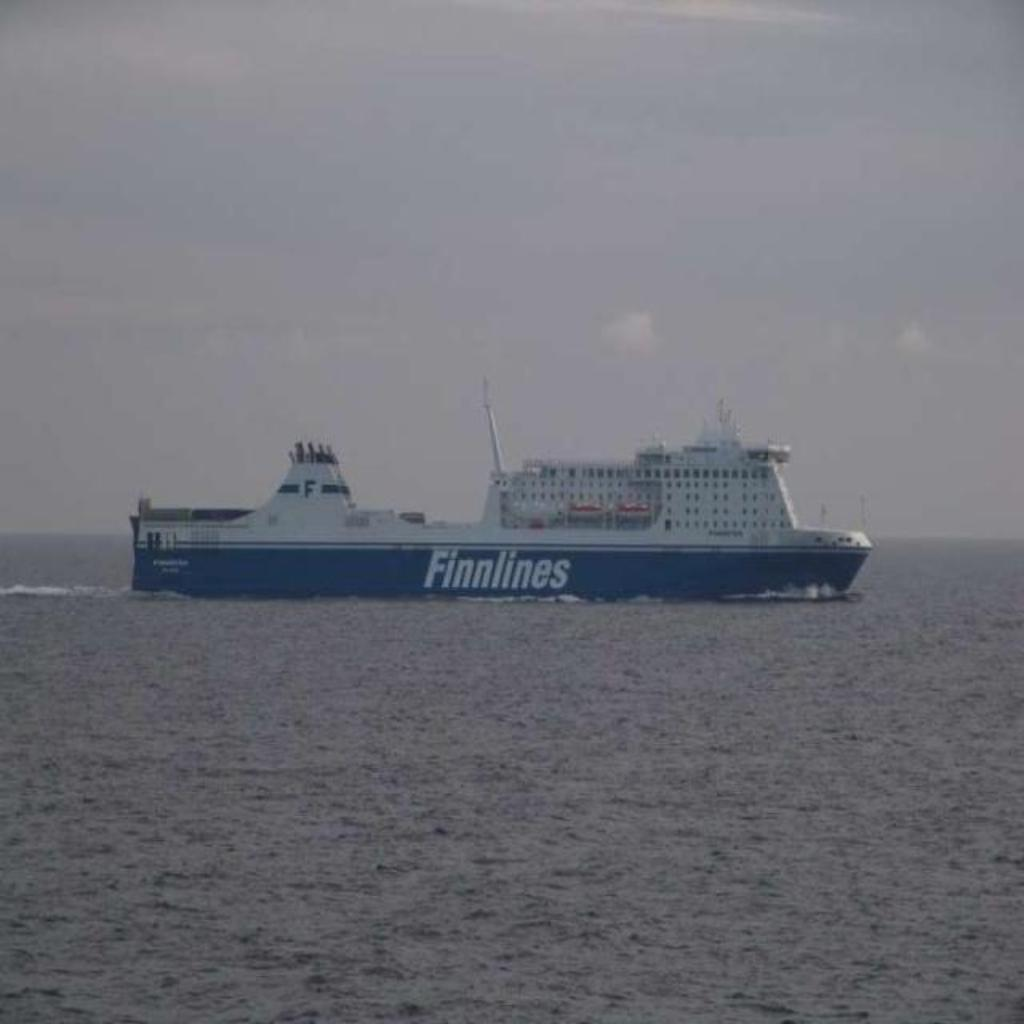PassengerShip: (121, 366, 881, 618)
